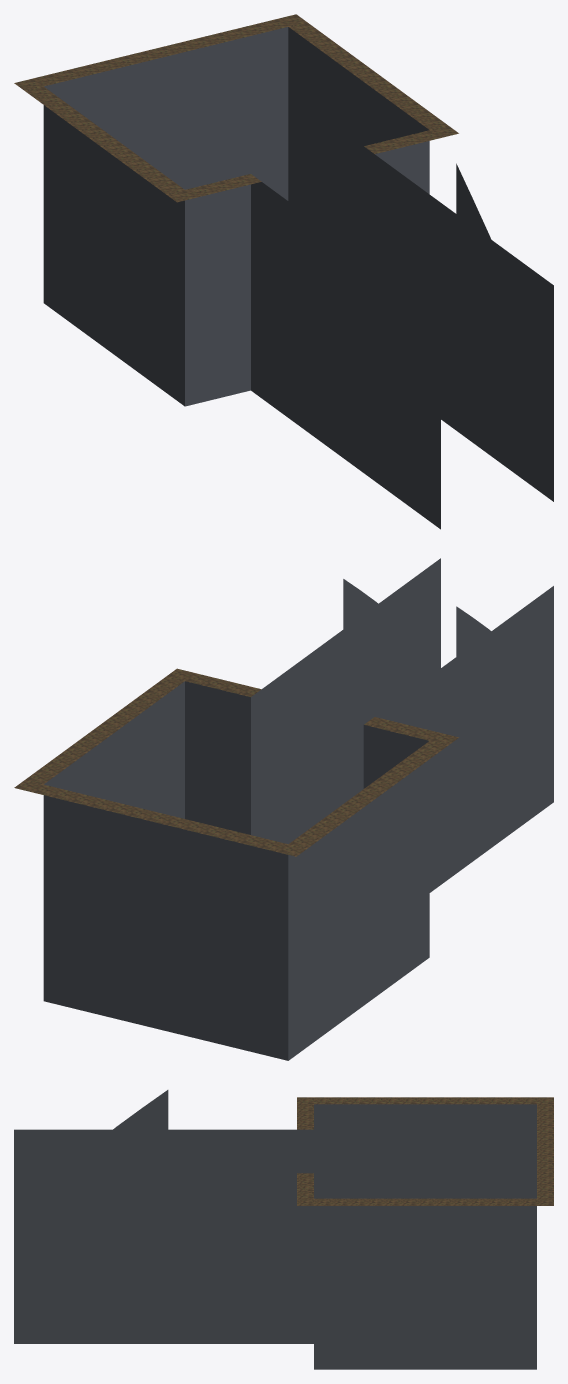
The model's file is payo_pit_floor.glb.
3 views of the same model, one above another, from view 1: azimuth 30°, elevation 25°; view 2: azimuth 150°, elevation 25°; view 3: azimuth 270°, elevation 25° (orthographic). The views are drawn at different scales.
Parts seen in each view (by area): view 1: payo_pit_floor; view 2: payo_pit_floor; view 3: payo_pit_floor.
Boxes of the visible parts, x1,y1,x2,y2 form: payo_pit_floor: (14, 14, 553, 529); payo_pit_floor: (14, 558, 553, 1060); payo_pit_floor: (14, 1090, 553, 1369).
Bounding box in the file's own units: 60 × 54.38 × 126.
2 materials, 1 textured.
